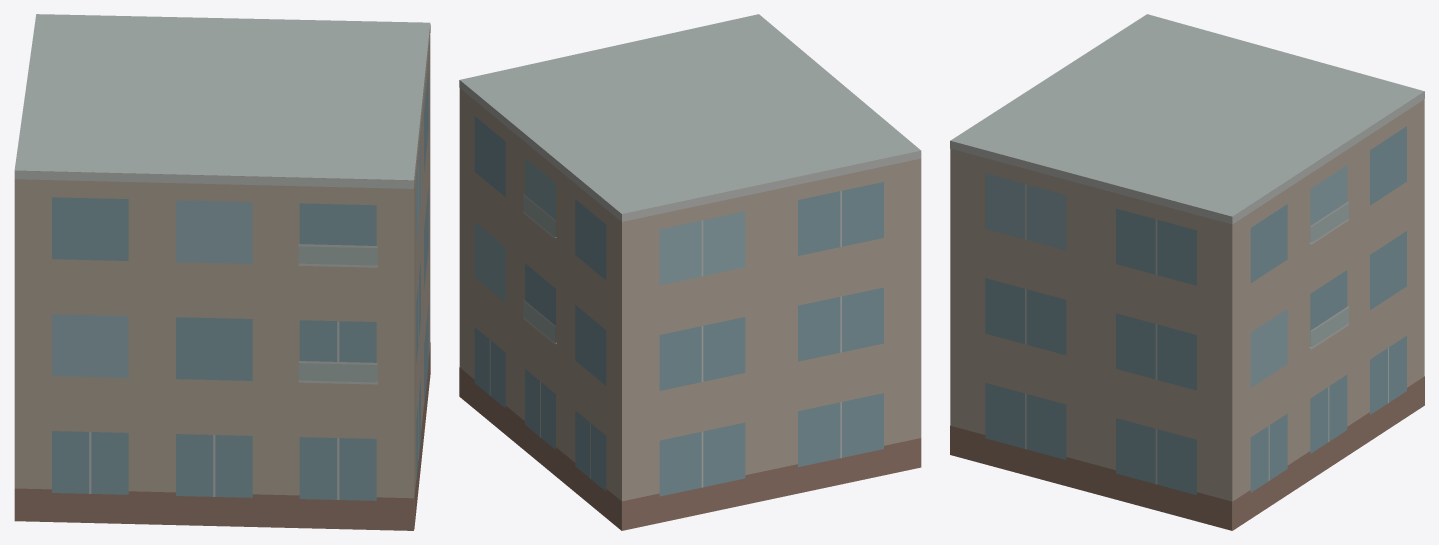
The model's file is survey-upis-32893315.glb.
3 renders of one model, left to right at view 1: azimuth 30°, elevation 25°; view 2: azimuth 150°, elevation 25°; view 3: azimuth 270°, elevation 25°, orthographic. The views are drawn at different scales.
Parts seen in each view (by area): view 1: survey-upis-32893315.tmp; view 2: survey-upis-32893315.tmp; view 3: survey-upis-32893315.tmp.
Boxes of the visible parts, box(x1,y1,x2,y2) form: survey-upis-32893315.tmp: box(14, 14, 430, 530); survey-upis-32893315.tmp: box(459, 14, 921, 530); survey-upis-32893315.tmp: box(950, 14, 1424, 530).
Bounding box in the file's own units: 13.57 × 9.8 × 13.42.
